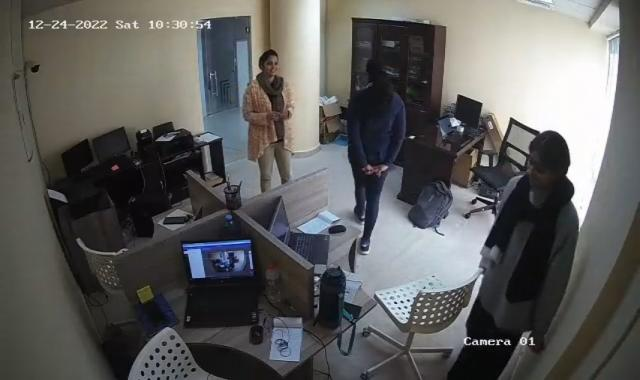no_hairnet: (524, 128, 570, 189), (361, 56, 390, 88), (256, 47, 280, 76)
